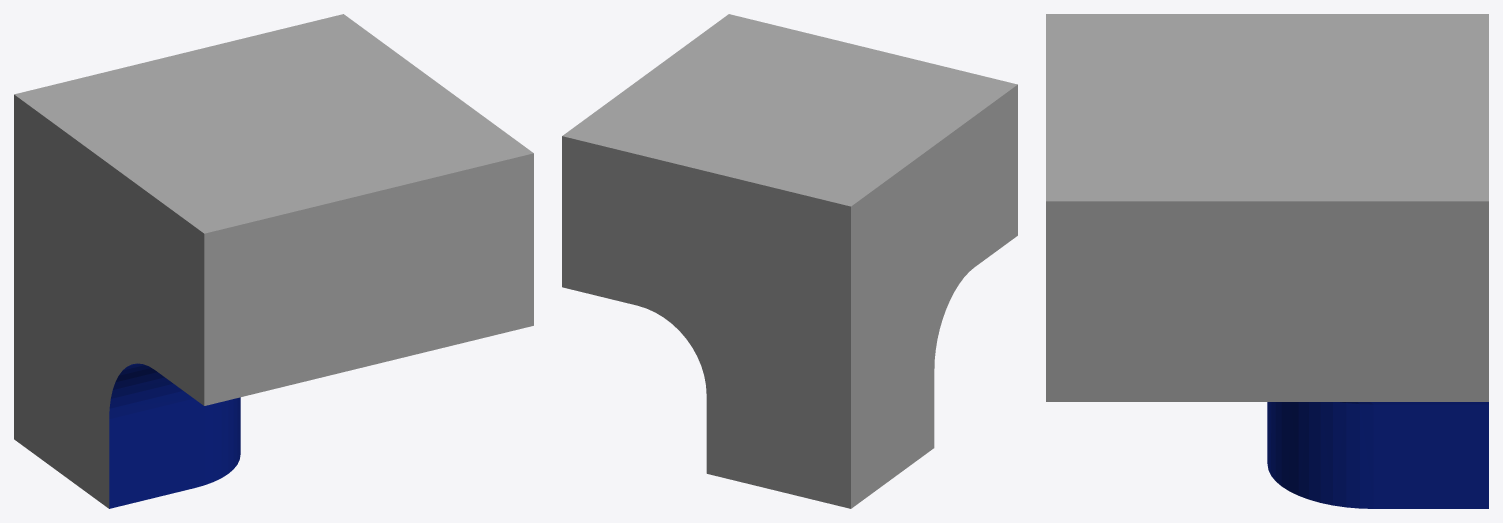
Rendered from case_241.fbx.
3 views of the same model, side by side, from view 1: azimuth 30°, elevation 25°; view 2: azimuth 150°, elevation 25°; view 3: azimuth 270°, elevation 25° (orthographic). The views are drawn at different scales.
Parts seen in each view (by area): view 1: case_241; view 2: case_241; view 3: case_241.
Part boxes in pixels (x1,y1,x2,y2): case_241: (14,14,533,508); case_241: (562,14,1017,508); case_241: (1046,14,1488,508).
Bounding box in the file's own units: 1 × 1 × 1.
